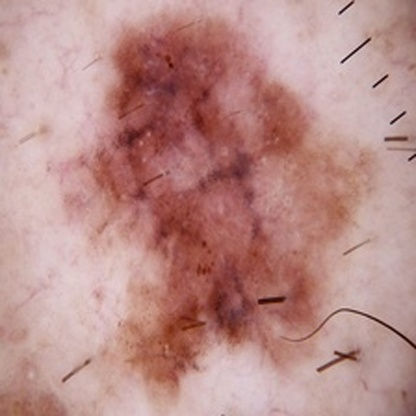malignant: (123, 40, 306, 343)
